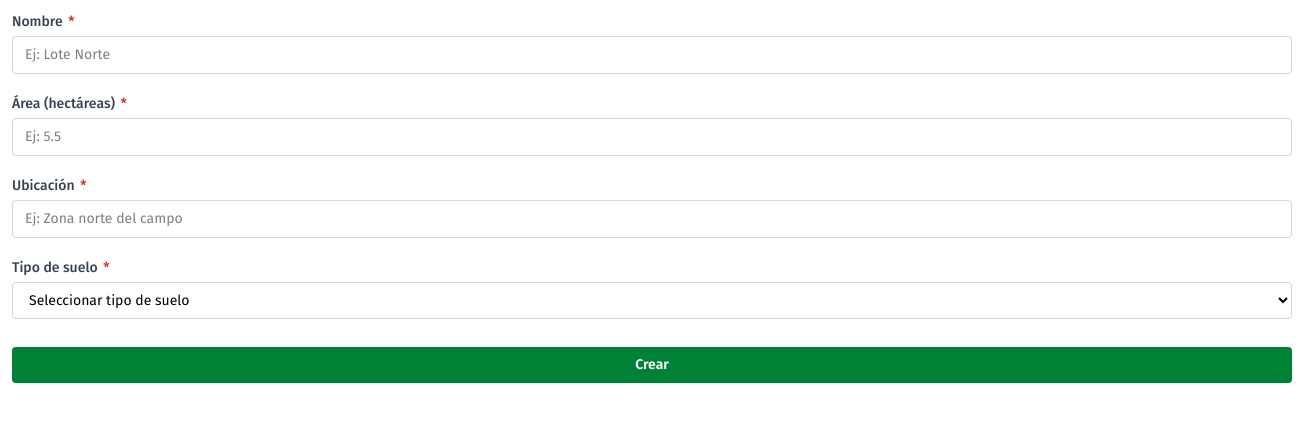
Test: ParcelForm › shows validation error for invalid area
Type "Lote Test" into the field labelled "Nombre *".
click(652, 55); type("Lote Test")  # box [12, 36, 1292, 74]
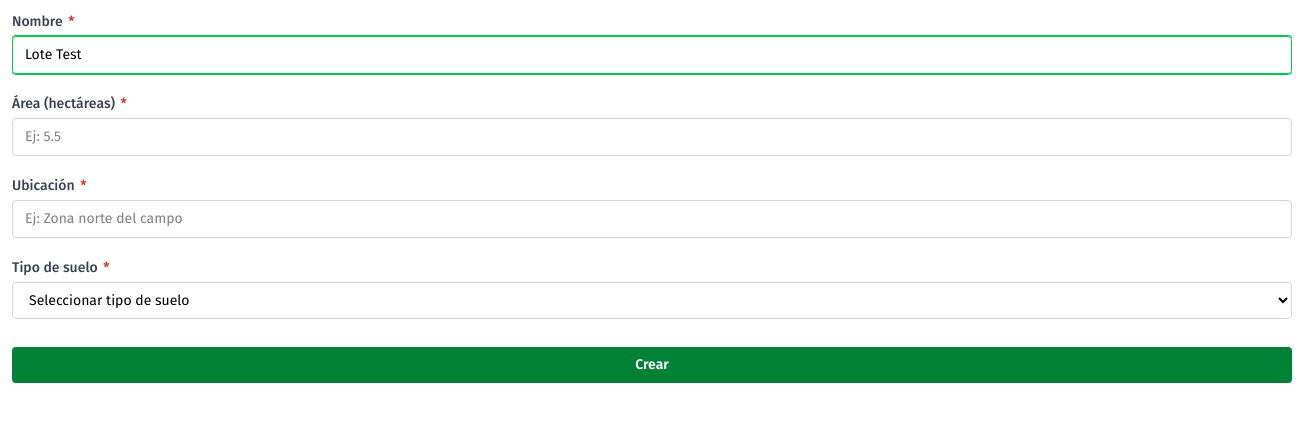
Type "Ubicación" into the field labelled "Ubicación *".
click(652, 219); type("Ubicación")  # box [12, 200, 1292, 238]
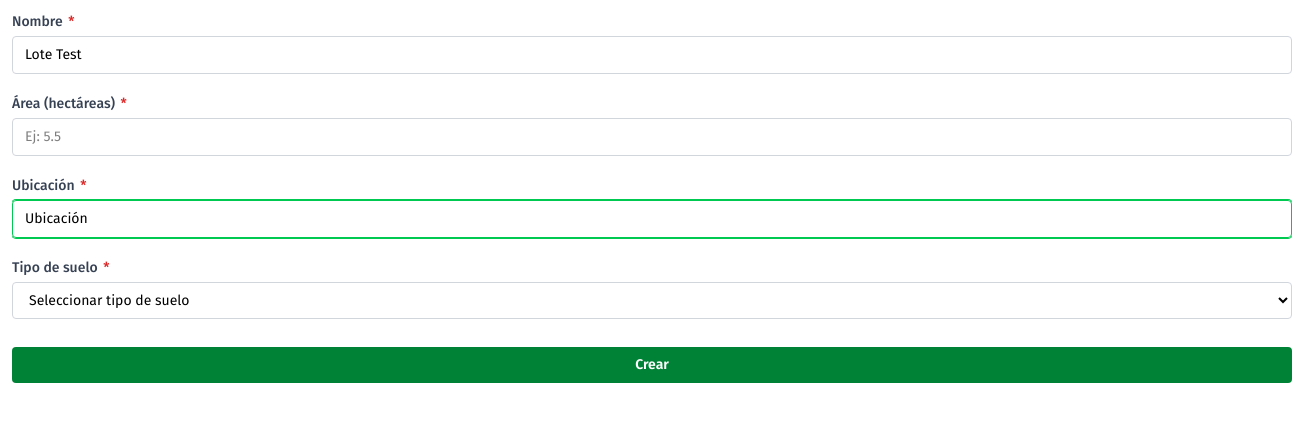
Type "0" into the number field labelled "Área (hectáreas) *".
click(652, 137); type("0")  # box [12, 118, 1292, 156]
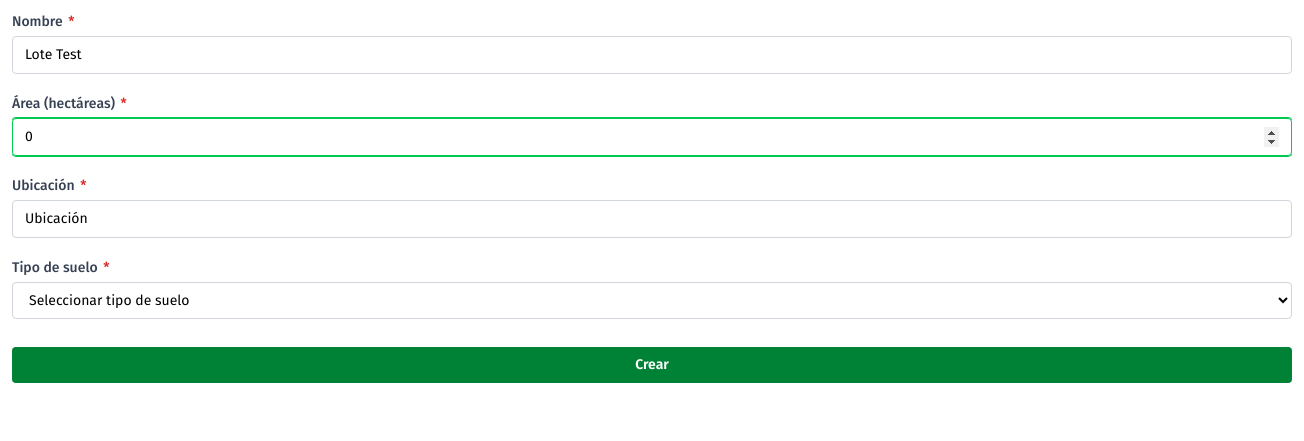
Click the button "Crear".
click(652, 365)  # box [12, 347, 1292, 383]
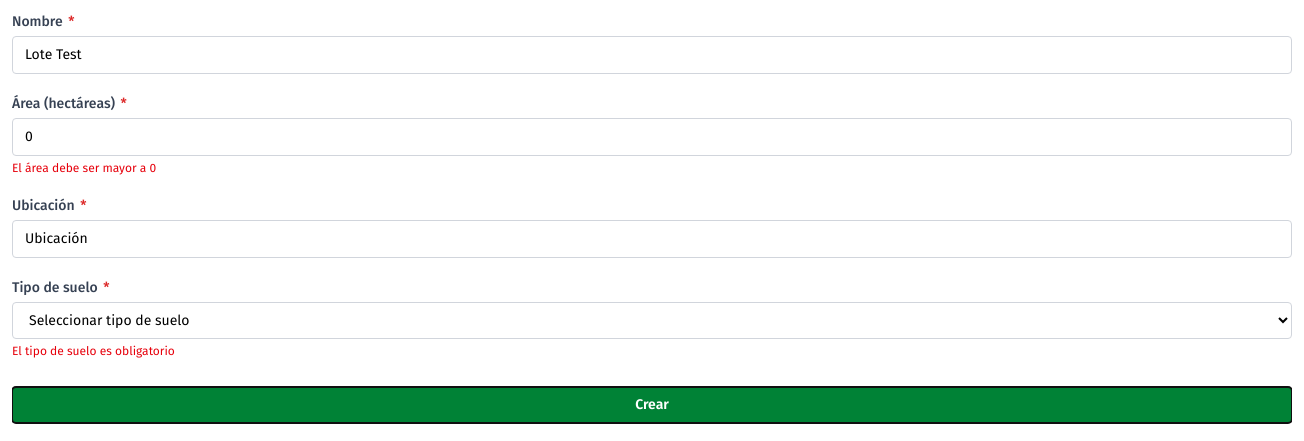
Expected: the text "El área debe ser mayor a 0" is shown, [12, 161, 156, 175]
